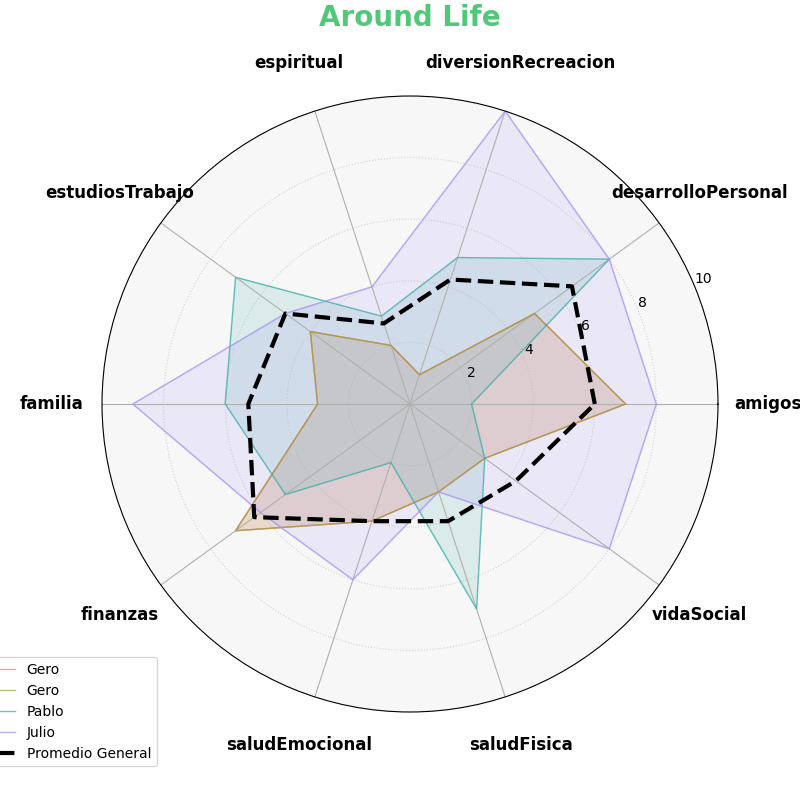

This screenshot's page, from the dashboard's own definition file:
{"tool":"powerbi","page":{"name":"General","canvas":[1280,720],"ordinal":0},"visuals":[{"type":"RadarChart1446119667547","fields":{"Y":["pub?output=csv.Valor"],"Category":["pub?output=csv.Atributo"]},"box":[293.7,191.6,708.1,401.7],"z":0}]}

Visuals, with their boxes on the page's 1280x720 design canvas (x1, y1, x2, y2). These are canvas units, not pixel positions in the 800x800 screenshot, which may show the page scaled, cropped or inside an application window:
RadarChart1446119667547 - pub?output=csv.Valor x pub?output=csv.Atributo: pyautogui.locateOnScreen(294, 192, 1002, 593)
